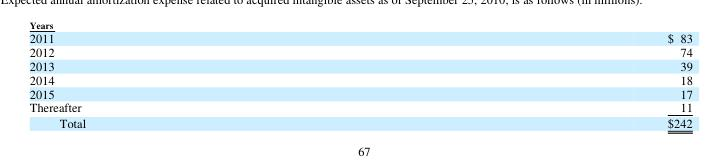table: (28, 29, 691, 130)
table column: (28, 29, 375, 130), (375, 29, 691, 130)
table row: (28, 114, 691, 130), (28, 29, 691, 44), (28, 99, 691, 114), (28, 44, 691, 58), (28, 71, 691, 85), (28, 85, 691, 99), (28, 58, 691, 71)
